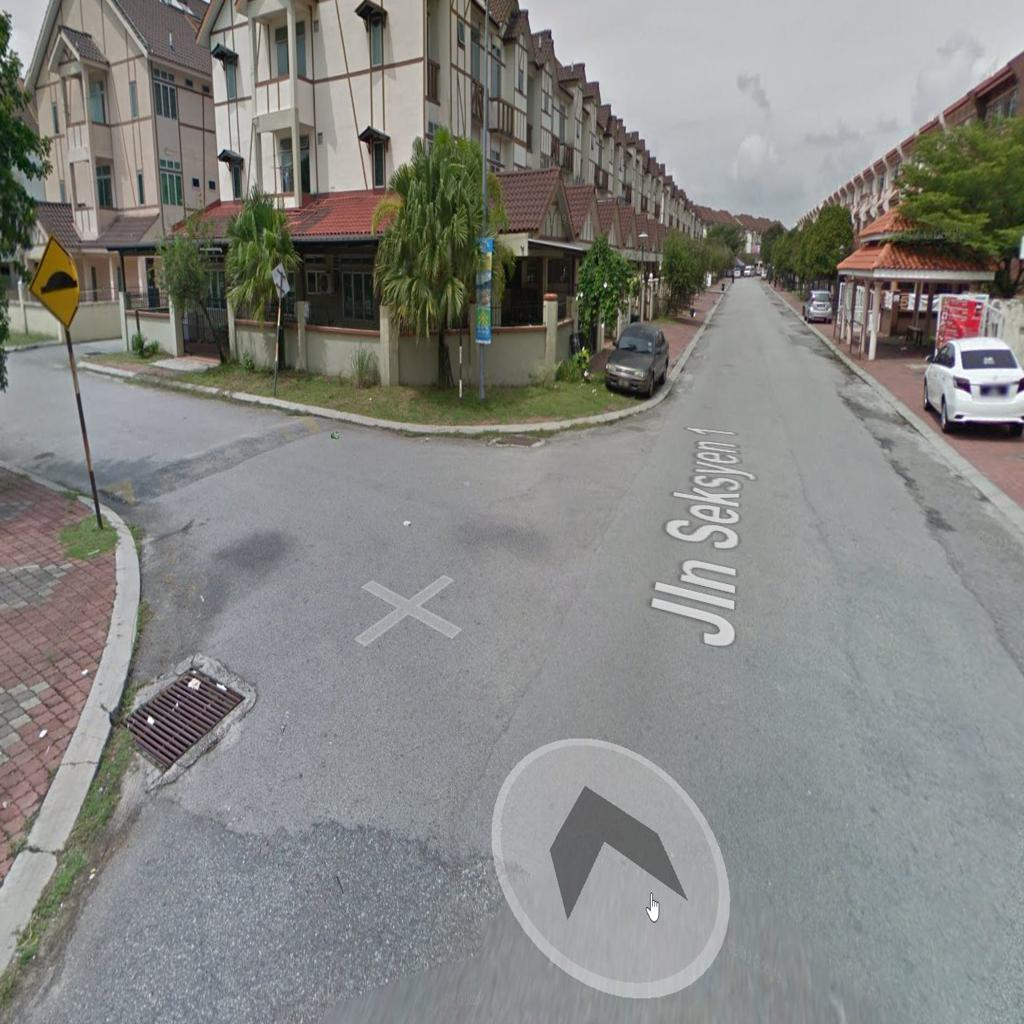Junction: (14, 350, 598, 742)
